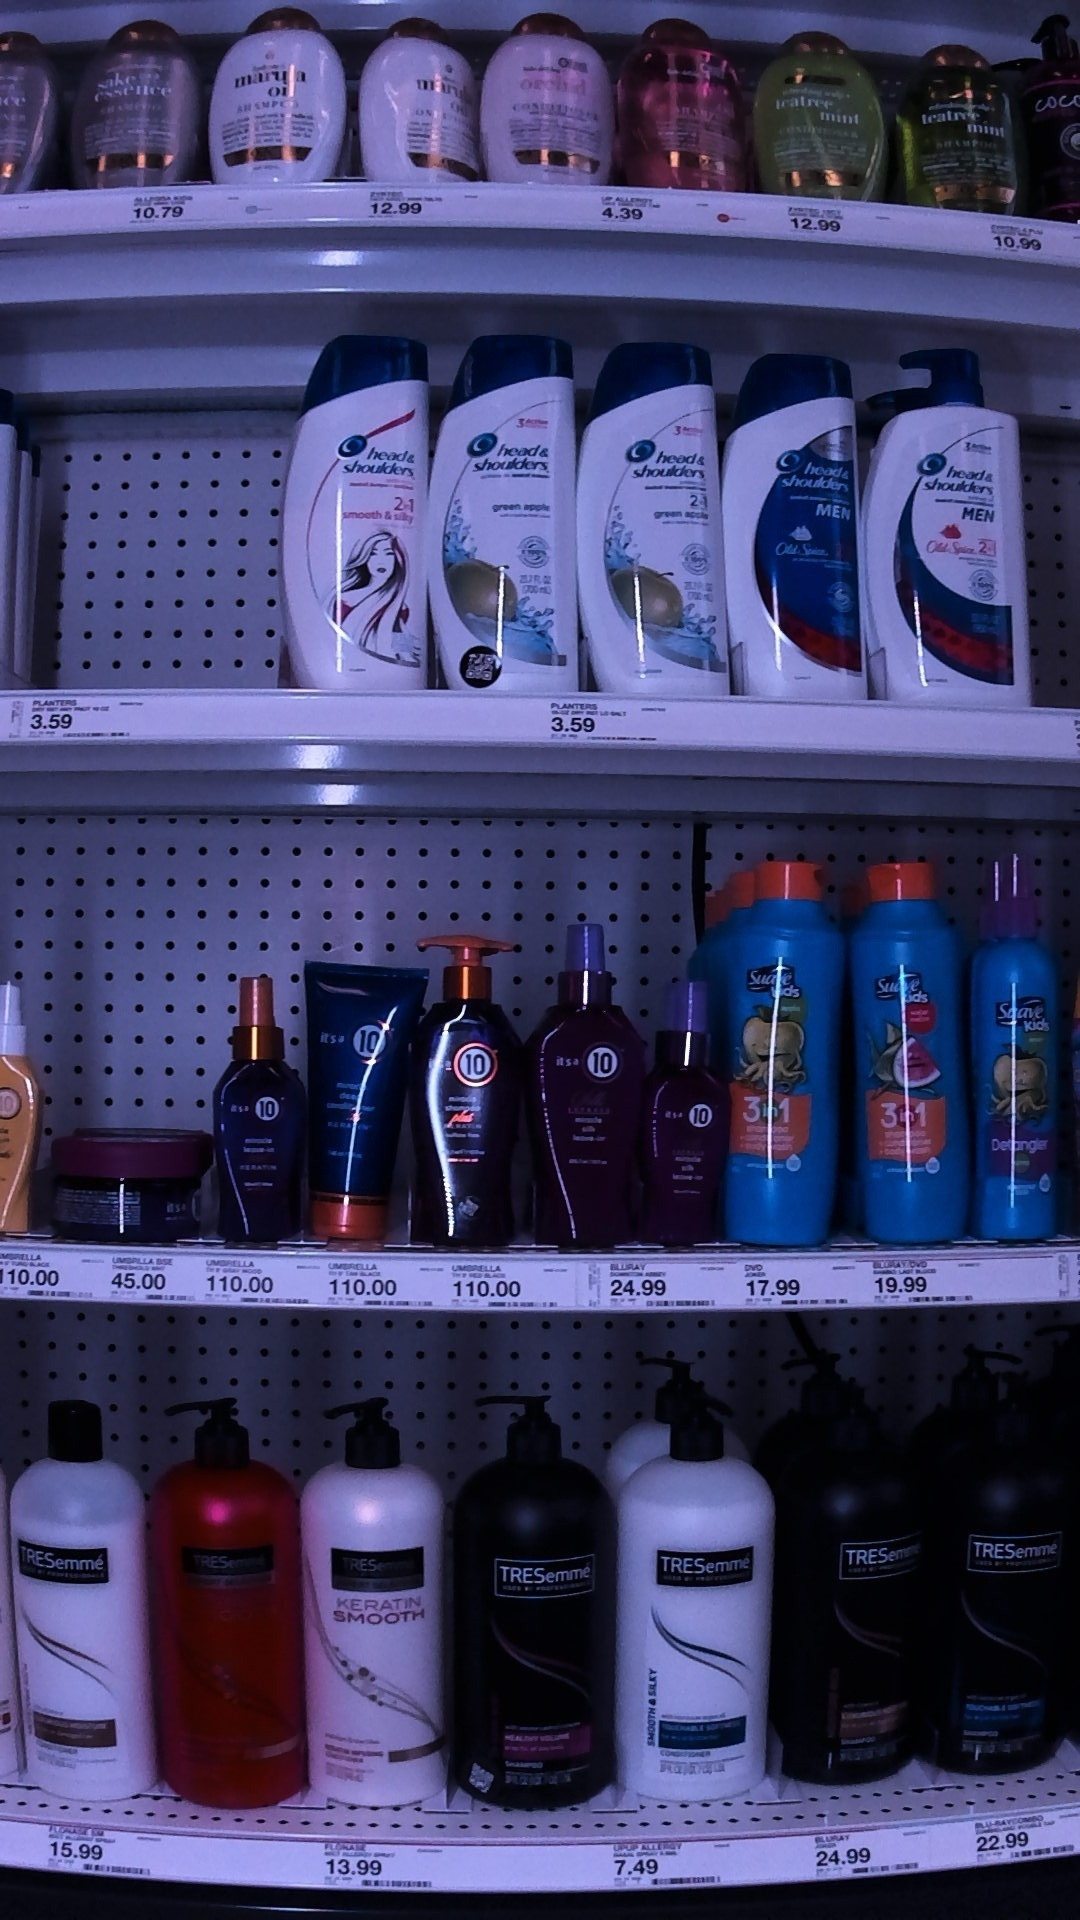ptag: (40, 1813, 173, 1884), (11, 688, 152, 746), (322, 1832, 446, 1898), (442, 1246, 560, 1313), (549, 688, 669, 752), (589, 1253, 705, 1315), (866, 1251, 980, 1313), (597, 1842, 727, 1895), (738, 1253, 849, 1313), (804, 1826, 926, 1880), (206, 1246, 309, 1305), (575, 177, 669, 240), (324, 1255, 425, 1311), (351, 186, 460, 235), (1, 1246, 104, 1296), (115, 185, 214, 235), (111, 1251, 195, 1304), (975, 218, 1054, 272), (789, 195, 860, 251), (964, 1826, 1060, 1865)
